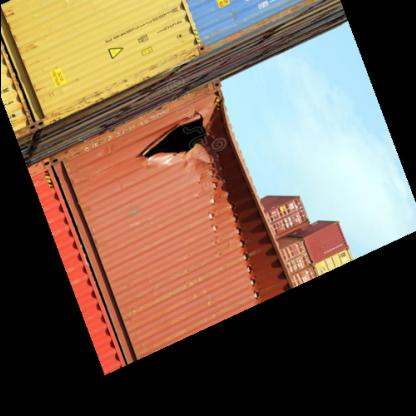Damage: (214, 122, 287, 310), (138, 111, 222, 171)
